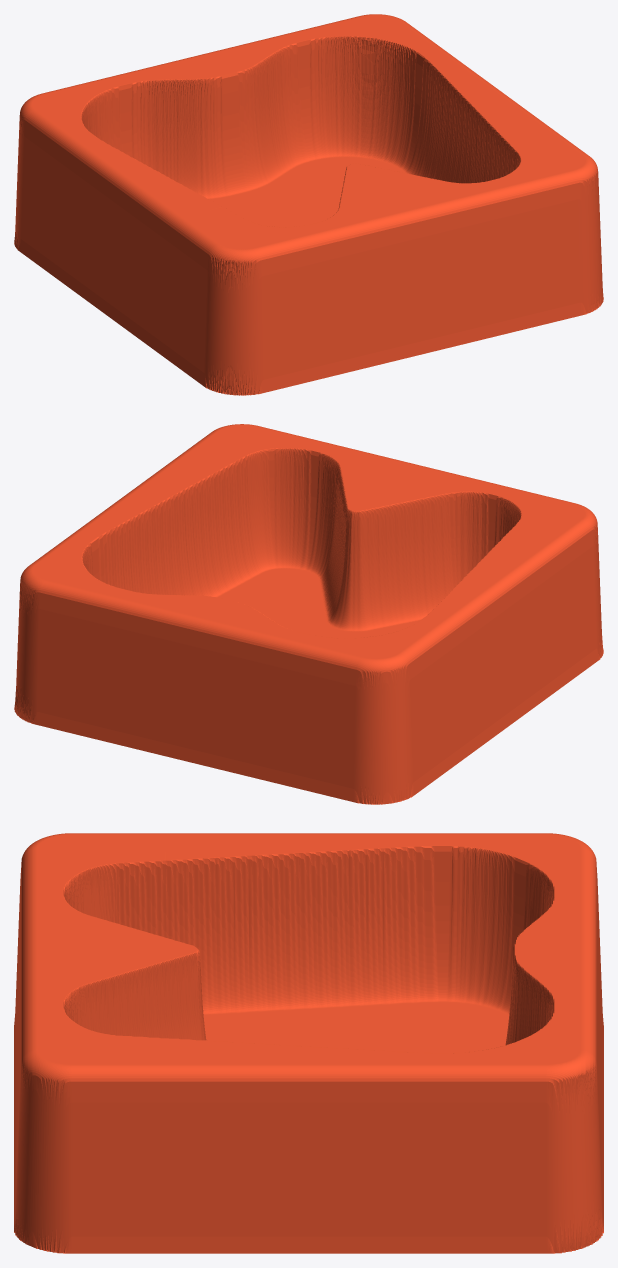
File: mold.glb
3 renders of one model, top to bottom at view 1: azimuth 30°, elevation 25°; view 2: azimuth 150°, elevation 25°; view 3: azimuth 270°, elevation 25°, orthographic. The views are drawn at different scales.
Visible parts, largest first — view 1: geometry_0; view 2: geometry_0; view 3: geometry_0.
Boxes of the visible parts, <box> form: geometry_0: <box>14,14,603,395</box>; geometry_0: <box>14,424,603,804</box>; geometry_0: <box>14,833,603,1253</box>.
Bounding box in the file's own units: 0.0924 × 0.031 × 0.0924.
